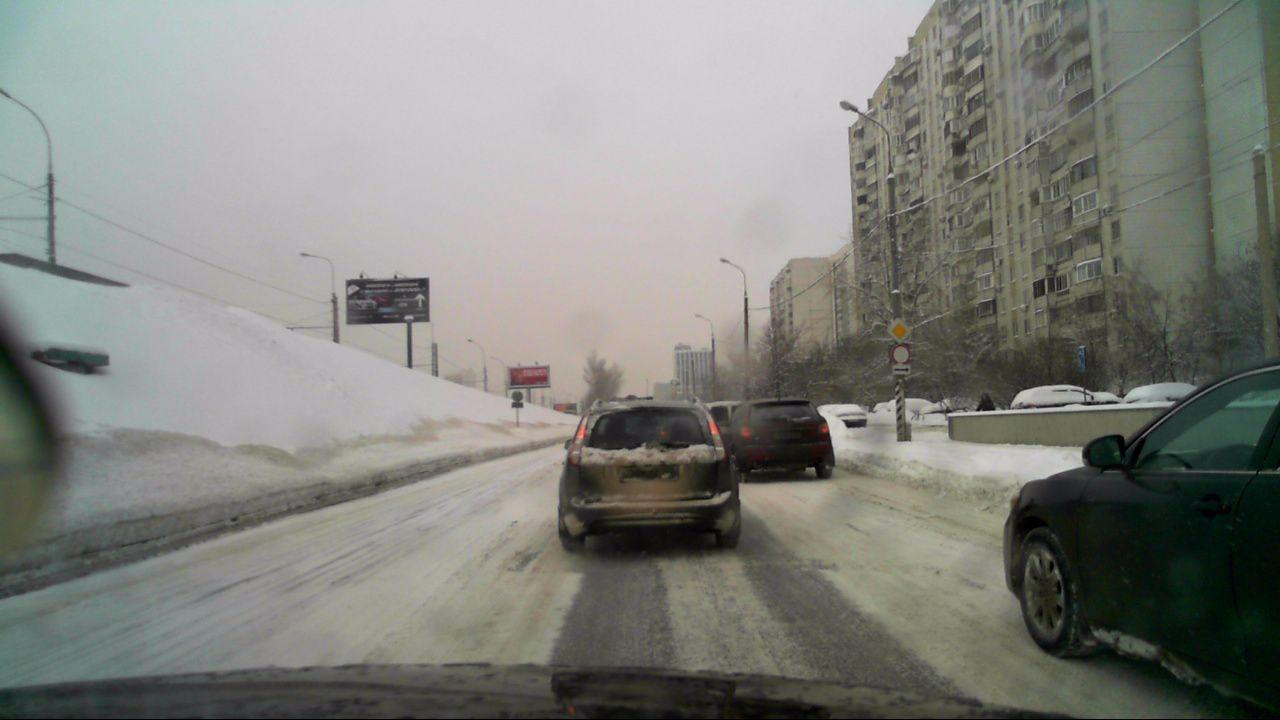2_1: (887, 317, 911, 341)
3_2: (890, 341, 911, 363)
5_21: (1076, 347, 1087, 371)
8_3_1: (890, 364, 911, 375)
